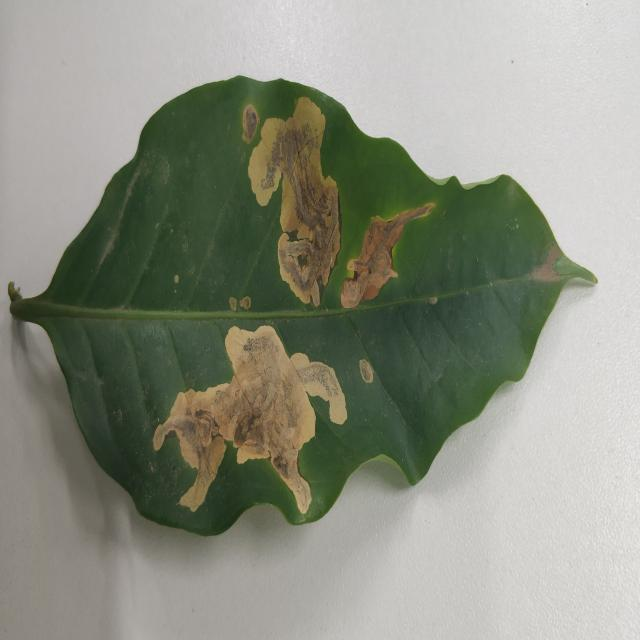Plaga-Minador: (8, 76, 598, 539)
